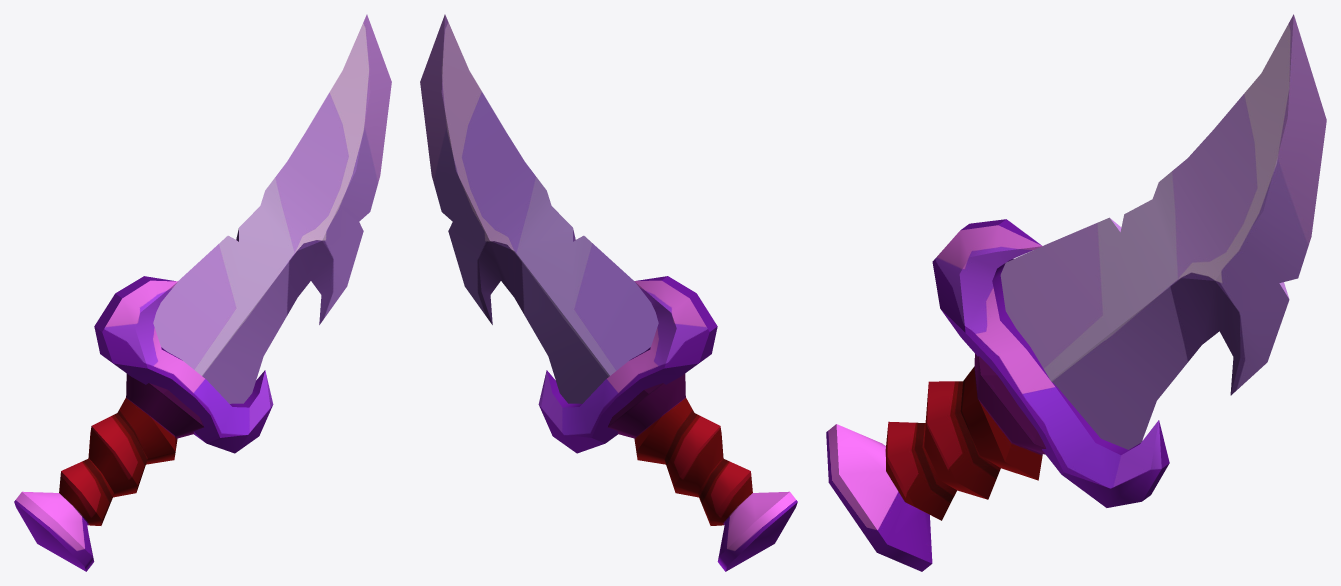
File: Dark spider_02.FBX
The picture shows the model from 3 angles, left to right: view 1: azimuth 30°, elevation 25°; view 2: azimuth 150°, elevation 25°; view 3: azimuth 330°, elevation 25°; orthographic projection. The views are drawn at different scales.
Visible parts, largest first — view 1: Dark spider_02; view 2: Dark spider_02; view 3: Dark spider_02.
Part boxes in pixels (left/top/right/bottom): Dark spider_02: left=14, top=14, right=391, bottom=571; Dark spider_02: left=420, top=14, right=797, bottom=571; Dark spider_02: left=826, top=14, right=1326, bottom=571.
Size of the model in its own units: 62.07 by 76.85 by 9.49.
